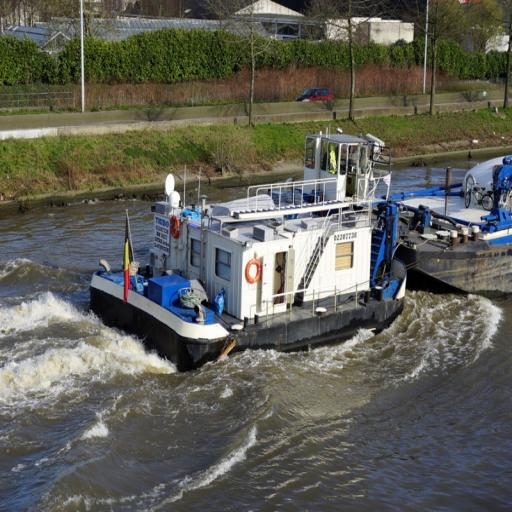tugboat: (88, 121, 411, 379)
